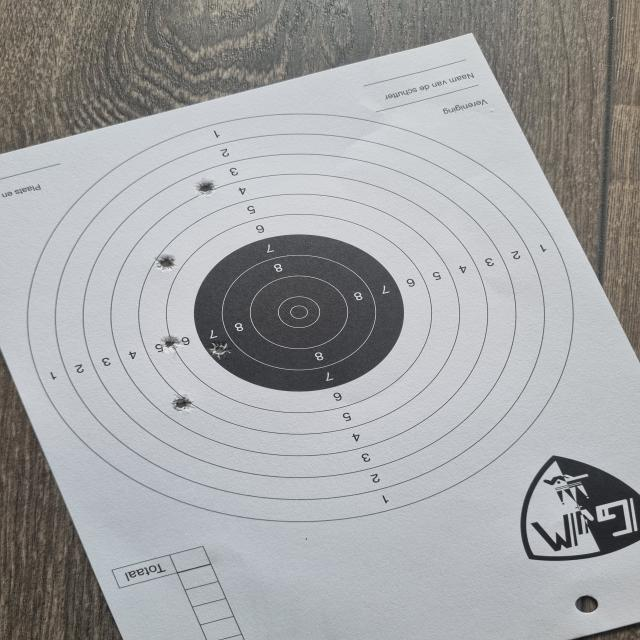4: (194, 180, 218, 194)
5: (172, 394, 196, 413), (154, 254, 178, 272)
6: (159, 335, 184, 350)
7: (206, 340, 232, 359)
Target: (24, 110, 575, 524)
black_contour: (193, 235, 405, 392)
